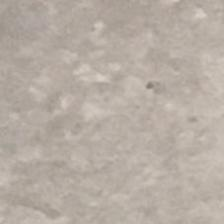Non_Crack: (21, 40, 203, 188)
